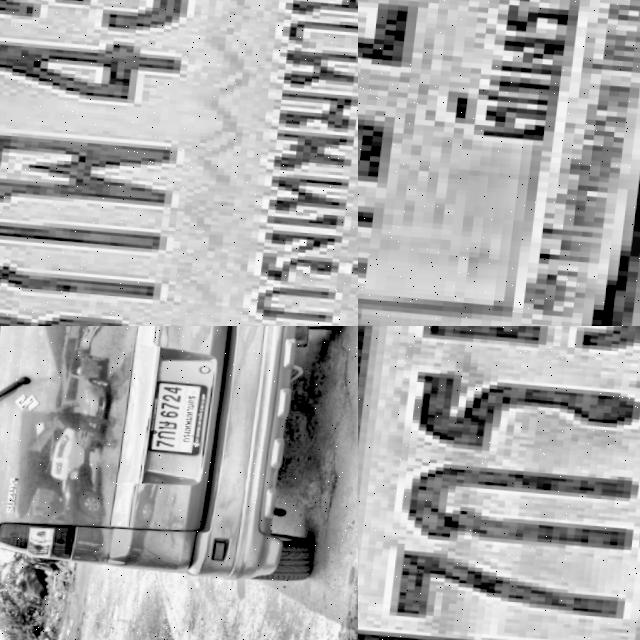license-plate: (0, 0, 358, 326), (358, 0, 640, 326), (358, 326, 640, 640), (148, 375, 215, 454)
